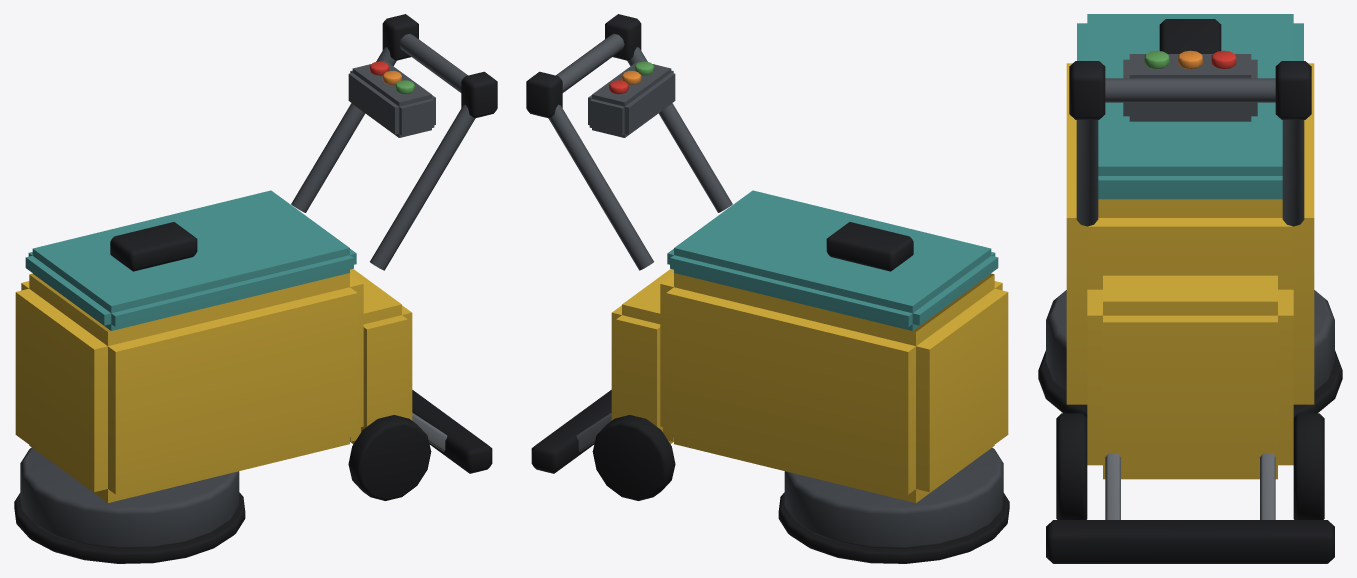
The model's file is FloorScrubber_01.glb.
3 views of the same model, side by side, from view 1: azimuth 30°, elevation 25°; view 2: azimuth 150°, elevation 25°; view 3: azimuth 270°, elevation 25° (orthographic). The views are drawn at different scales.
Parts seen in each view (by area): view 1: SM_FloorScrubber_01; view 2: SM_FloorScrubber_01; view 3: SM_FloorScrubber_01.
Part boxes in pixels (left/top/right/bottom): SM_FloorScrubber_01: left=14, top=14, right=497, bottom=563; SM_FloorScrubber_01: left=526, top=14, right=1009, bottom=563; SM_FloorScrubber_01: left=1038, top=14, right=1342, bottom=563.
Bounding box in the file's own units: 1.25 × 1.1 × 0.59.
Materials: 1 (1 with a texture image).
